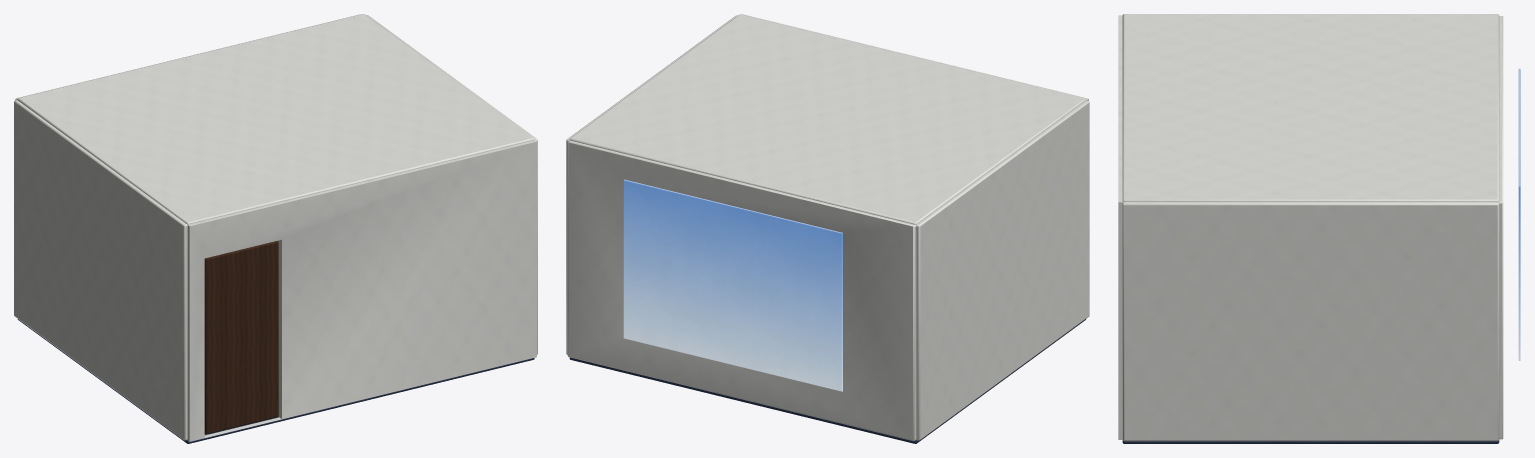
Rendered from unit-3-standard-triple.glb.
The picture shows the model from 3 angles, left to right: view 1: azimuth 30°, elevation 25°; view 2: azimuth 150°, elevation 25°; view 3: azimuth 270°, elevation 25°; orthographic projection. The views are drawn at different scales.
Parts seen in each view (by area): view 1: wall_entry, ceiling, wall_left, door_1_leaf, floor, wall_right; view 2: ceiling, wall_back_window, wall_left, trim_window_backdrop, floor, wall_right; view 3: wall_right, ceiling, wall_entry, wall_back_window, floor, trim_window_backdrop.
Part boxes in pixels (x1,y1,x2,y2): wall_entry: [187, 140, 536, 441]; ceiling: [17, 14, 534, 224]; wall_left: [14, 100, 187, 440]; door_1_leaf: [204, 241, 278, 434]; floor: [17, 319, 534, 443]; wall_right: [366, 15, 537, 354]; ceiling: [569, 14, 1086, 224]; wall_back_window: [567, 140, 916, 441]; wall_left: [916, 100, 1089, 440]; trim_window_backdrop: [623, 179, 842, 391]; floor: [569, 319, 1085, 443]; wall_right: [566, 15, 737, 354]; wall_right: [1122, 202, 1499, 441]; ceiling: [1122, 14, 1499, 202]; wall_entry: [1118, 15, 1123, 439]; wall_back_window: [1499, 16, 1503, 439]; floor: [1122, 440, 1499, 443]; trim_window_backdrop: [1518, 68, 1520, 360].
Size of the model in its own units: 4.19 by 2.51 by 3.75.
Materials: 13 (12 with a texture image).
